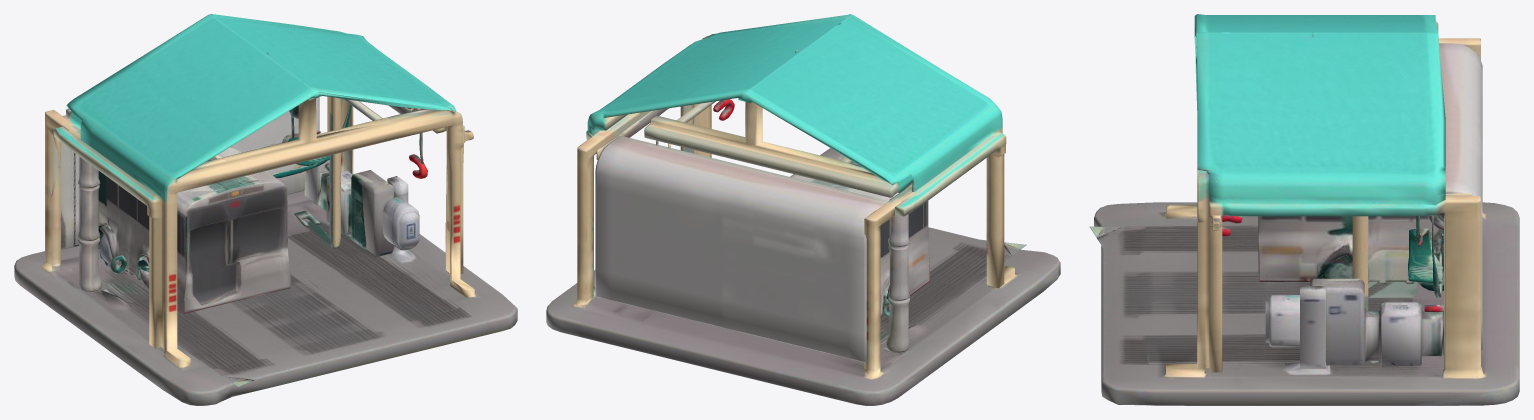
Rendered from repair-station.glb.
The picture shows the model from 3 angles, left to right: view 1: azimuth 30°, elevation 25°; view 2: azimuth 150°, elevation 25°; view 3: azimuth 270°, elevation 25°; orthographic projection. The views are drawn at different scales.
Visible parts, largest first — view 1: mesh_node; view 2: mesh_node; view 3: mesh_node.
Part boxes in pixels (left/top/right/bottom): mesh_node: left=14, top=14, right=517, bottom=405; mesh_node: left=546, top=14, right=1060, bottom=405; mesh_node: left=1089, top=14, right=1519, bottom=405.
Bounding box in the file's own units: 1.9 × 1.32 × 1.82.
1 material, 1 textured.
